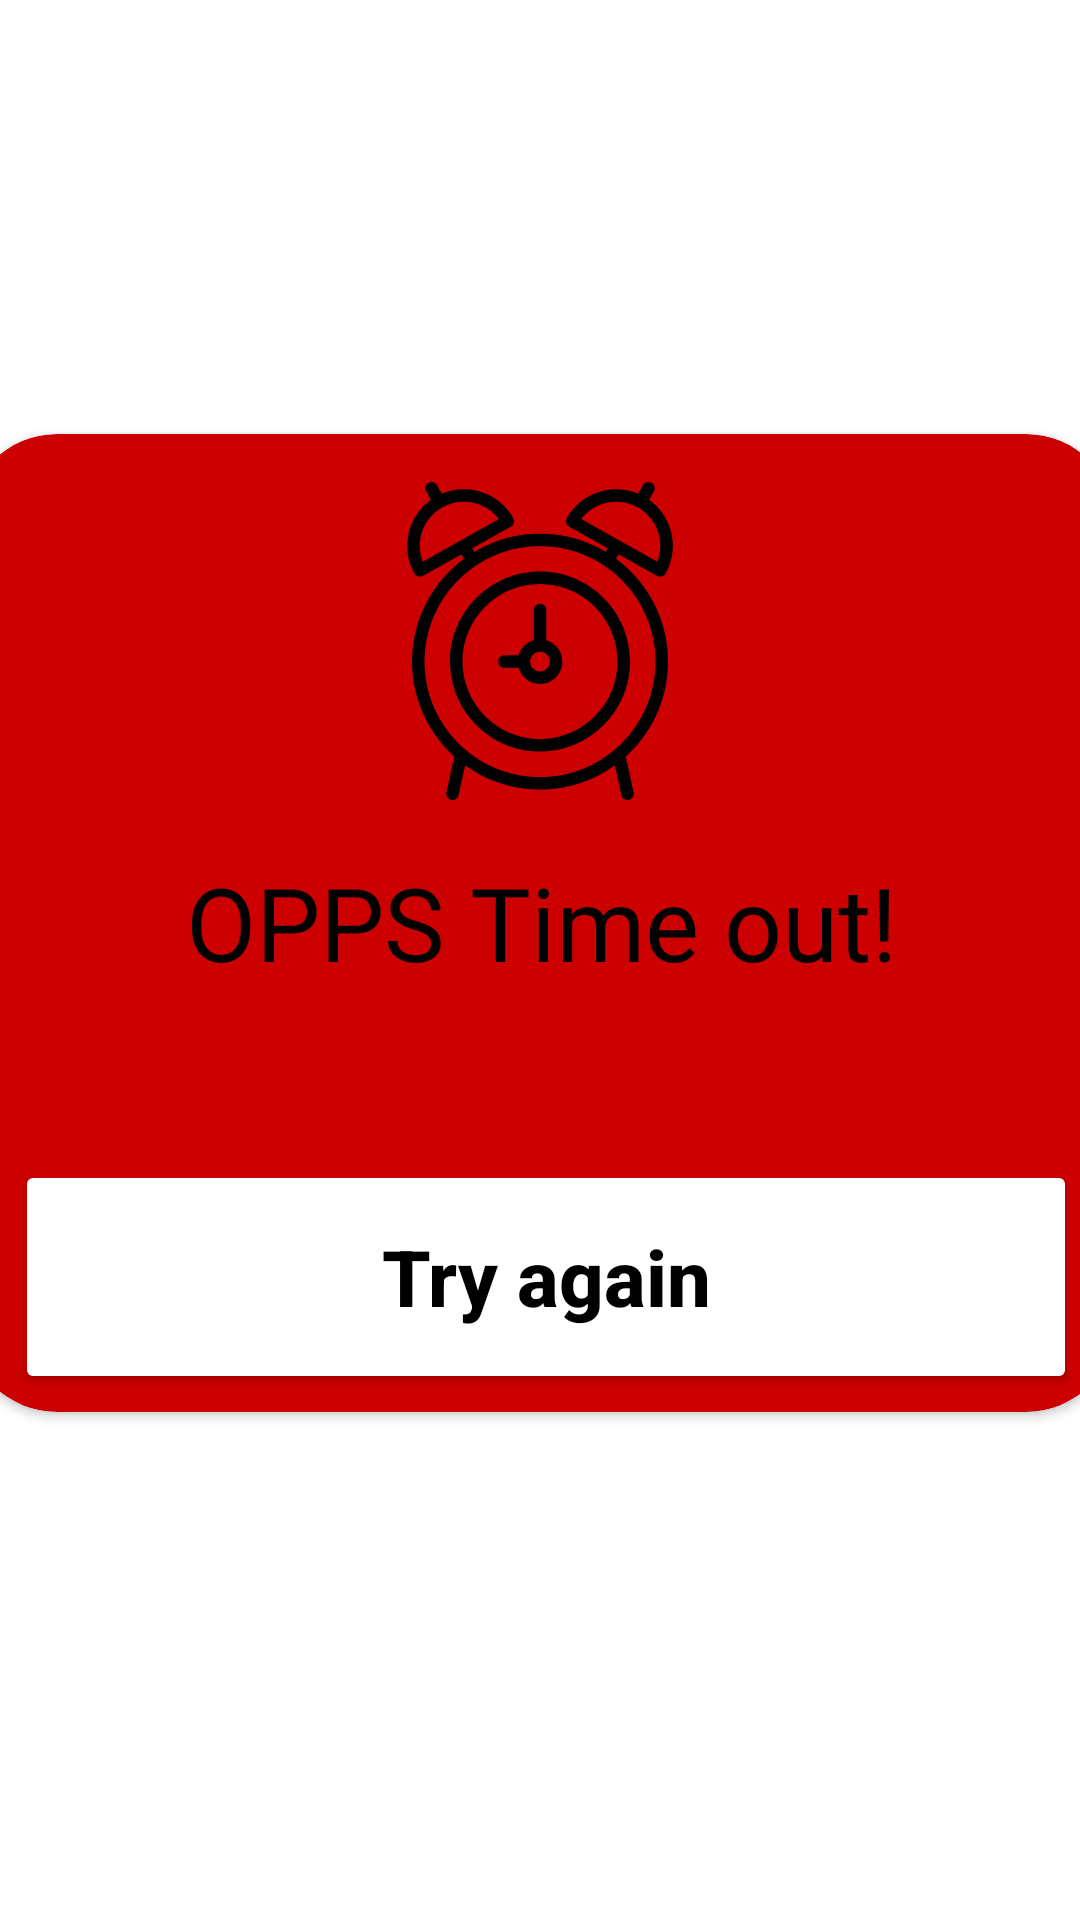

Icon bounding boxes for this 1080 x 1920 phone screenshot, format bbox=(x1, y1, x2, y2):
alarm clock: bbox=(407, 482, 673, 800)
